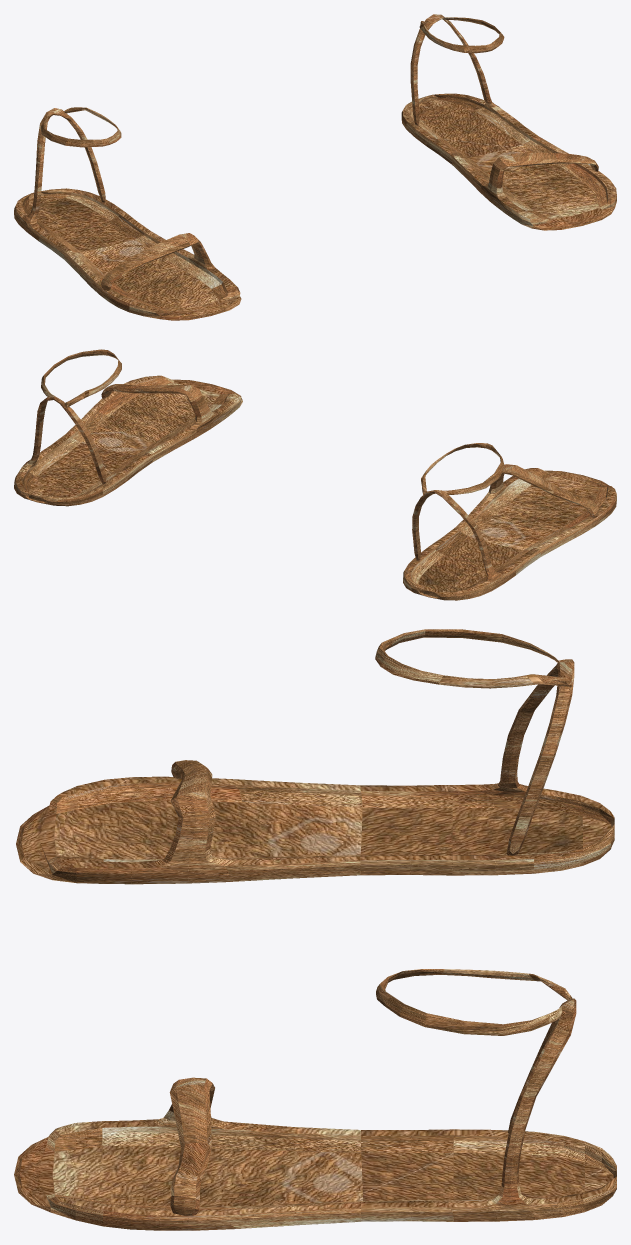
Rendered from calzado.obj.
3 renders of one model, top to bottom at view 1: azimuth 30°, elevation 25°; view 2: azimuth 150°, elevation 25°; view 3: azimuth 270°, elevation 25°, orthographic. The views are drawn at different scales.
Visible parts, largest first — view 1: Cube.001; view 2: Cube.001; view 3: Cube.001.
Part boxes in pixels (x1=…): Cube.001: x1=14, y1=14, x2=616, y2=320; Cube.001: x1=14, y1=349, x2=616, y2=600; Cube.001: x1=14, y1=629, x2=616, y2=1230.
Bounding box in the file's own units: 5.77 × 1.22 × 3.33.
